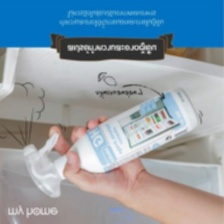cleaning_solution: (20, 83, 202, 200)
